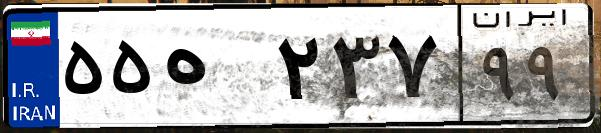2: (270, 28, 330, 110)
3: (330, 28, 385, 110)
5: (57, 26, 110, 100), (110, 28, 158, 98)
7: (385, 28, 445, 110)
9: (475, 38, 525, 113), (525, 38, 570, 115)
ه: (158, 20, 270, 120)
